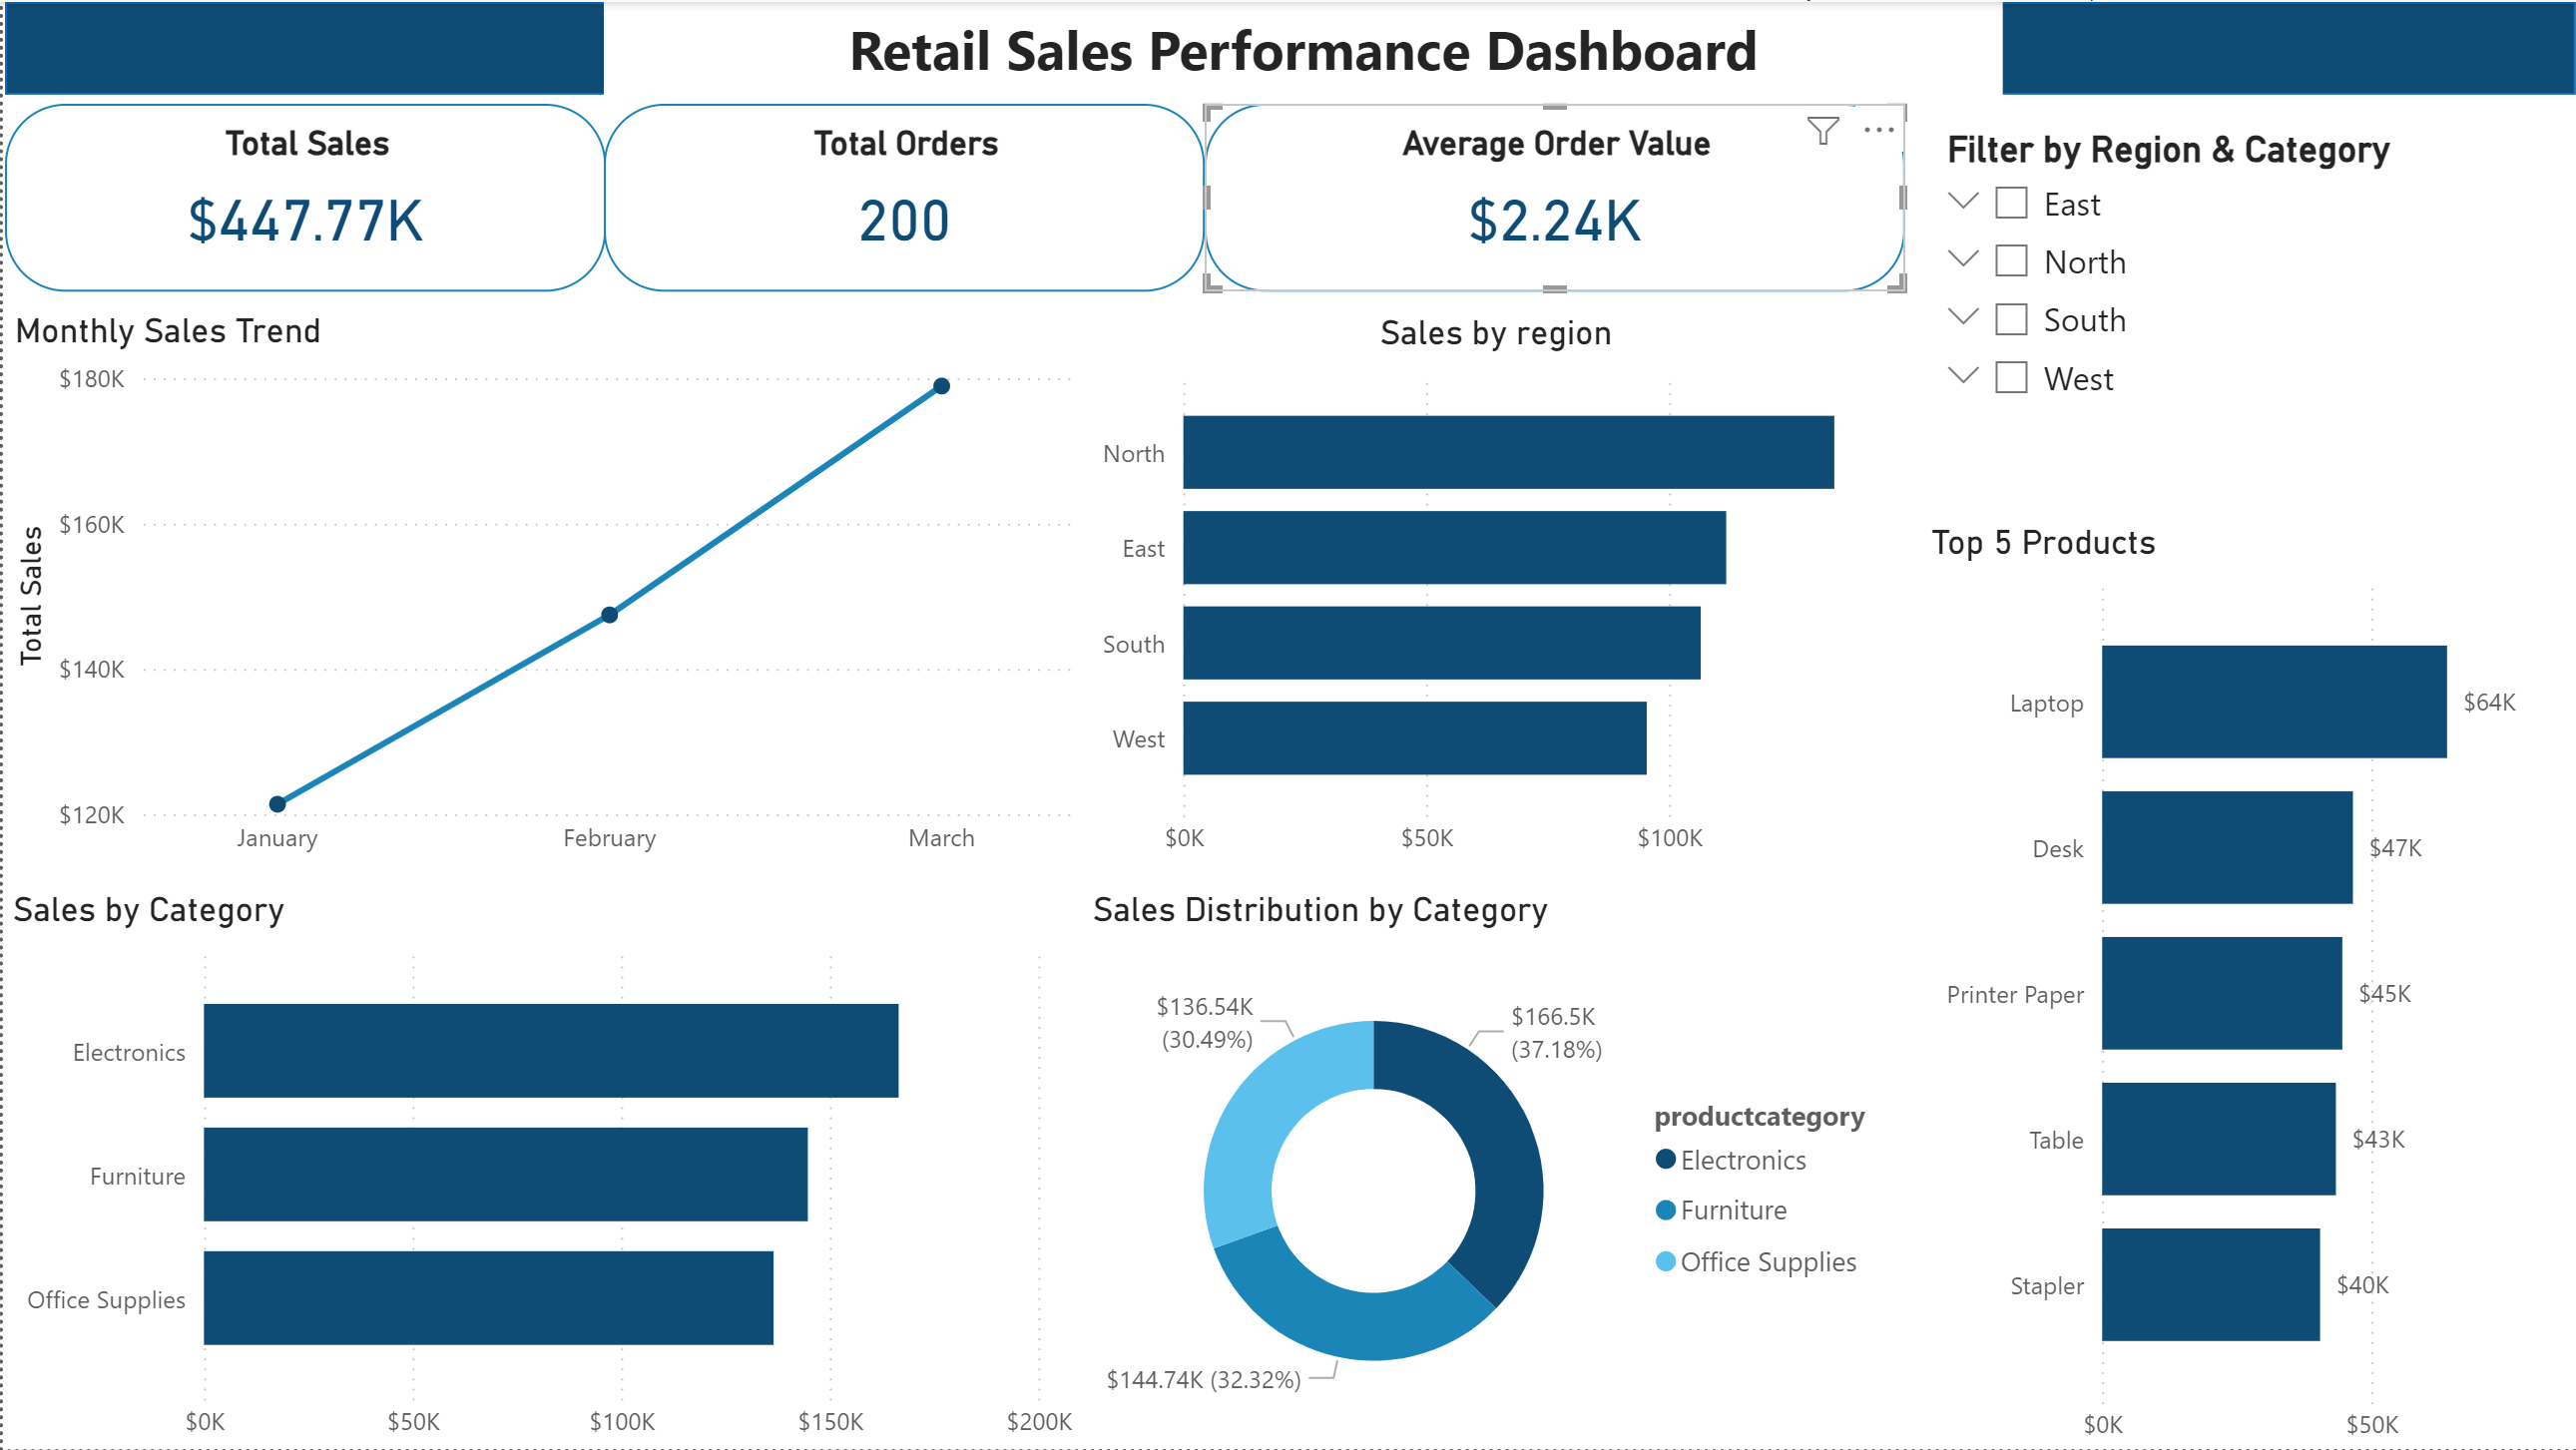

Layout of this report page (visuals, bound fields, positions):
{"tool":"powerbi","page":{"name":"Page 1","canvas":[1280,720],"ordinal":0},"visuals":[{"type":"shape","box":[1.1,0,1278.9,46.2],"z":0},{"type":"lineChart","title":"Monthly Sales Trend","fields":{"Category":["public sales.orderdate.Variation.Date Hierarchy.Month"],"Y":["Sum(public sales.sales)"]},"box":[1.1,153.5,537.1,280.2],"z":1000},{"type":"card","title":"Total Sales","fields":{"Values":["Sum(public sales.sales)"]},"box":[1.1,50.6,299.1,93.5],"z":2000},{"type":"card","title":"Total Orders","fields":{"Values":["CountNonNull(public sales.orderid)"]},"box":[299.1,50.6,299.1,93.5],"z":3000},{"type":"card","title":"Average Order Value","fields":{"Values":["public sales.Average Order Value"]},"box":[598.2,50.6,348.6,93.5],"z":4000},{"type":"clusteredBarChart","title":"Sales by region","fields":{"Category":["public sales.region"],"Y":["Sum(public sales.sales)"]},"box":[538.2,154.6,409.2,279.1],"z":5000},{"type":"clusteredBarChart","title":"Sales by Category","fields":{"Category":["public sales.productcategory"],"Y":["Sum(public sales.sales)"]},"box":[0,441.5,537.1,282.5],"z":6000},{"type":"clusteredBarChart","title":"Top 5 Products","fields":{"Category":["public sales.productname"],"Y":["Sum(public sales.sales)"]},"box":[954.2,259.1,329.2,467.1],"z":7000},{"type":"slicer","fields":{"Values":["public sales.region","public sales.productcategory"]},"box":[954.2,57.8,325.8,193.5],"z":8000},{"type":"donutChart","title":"Sales Distribution by Category","fields":{"Category":["public sales.productcategory"],"Y":["Sum(public sales.sales)"]},"box":[537.1,441.5,409.2,280.2],"z":9000},{"type":"textbox","box":[299.1,0,696.1,50.6],"z":10000}]}

Visuals, with their boxes in screenshot pixels (x1, y1, x2, y2), scaled from the page's 1280x720 canvas onto the 2576x1450 screenshot:
shape: x1=2, y1=0, x2=2575, y2=93
"Monthly Sales Trend" lineChart: x1=2, y1=309, x2=1083, y2=873
"Total Sales" card: x1=2, y1=102, x2=604, y2=290
"Total Orders" card: x1=602, y1=102, x2=1204, y2=290
"Average Order Value" card: x1=1204, y1=102, x2=1905, y2=290
"Sales by region" clusteredBarChart: x1=1083, y1=311, x2=1906, y2=873
"Sales by Category" clusteredBarChart: x1=0, y1=889, x2=1081, y2=1449
"Top 5 Products" clusteredBarChart: x1=1920, y1=522, x2=2575, y2=1449
slicer - public sales.region x public sales.productcategory: x1=1920, y1=117, x2=2575, y2=506
"Sales Distribution by Category" donutChart: x1=1081, y1=889, x2=1904, y2=1449
textbox: x1=602, y1=0, x2=2003, y2=102
